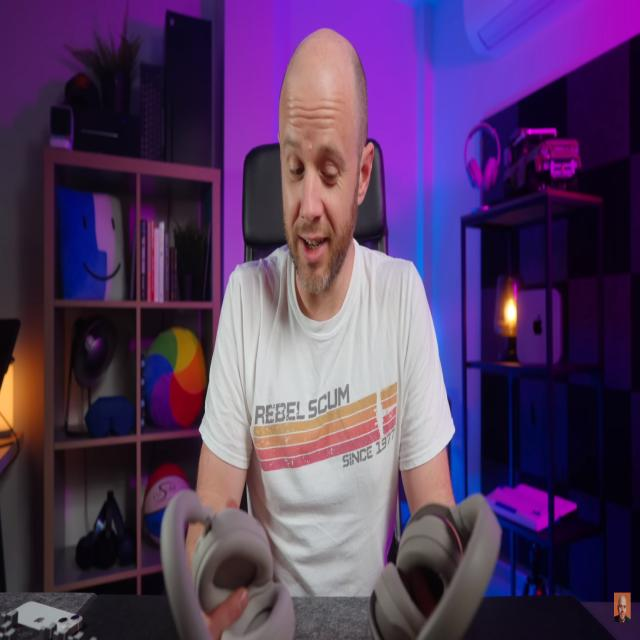Headphone: (158, 488, 298, 640), (365, 491, 503, 640)
